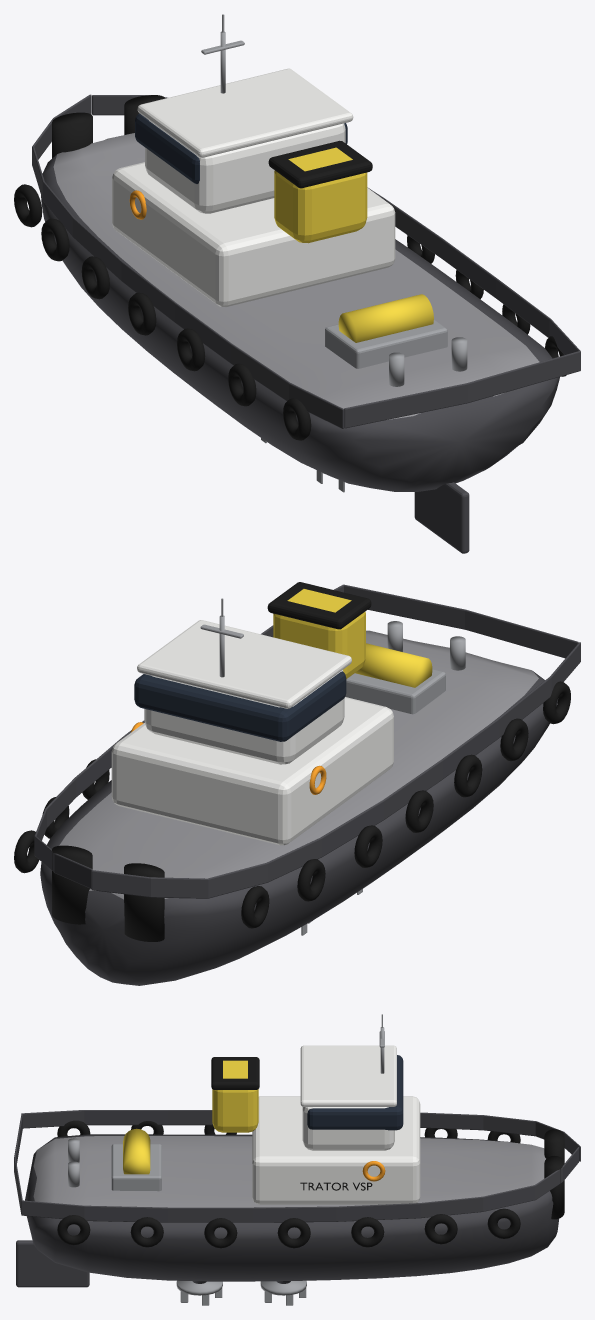
File: rebocador_trator_voith.glb
3 renders of one model, top to bottom at view 1: azimuth 30°, elevation 25°; view 2: azimuth 150°, elevation 25°; view 3: azimuth 270°, elevation 25°, orthographic. The views are drawn at different scales.
Parts seen in each view (by area): view 1: rebocador_trator_voith; view 2: rebocador_trator_voith; view 3: rebocador_trator_voith.
Part boxes in pixels (x1,y1,x2,y2): rebocador_trator_voith: (14, 14, 580, 553); rebocador_trator_voith: (14, 582, 580, 985); rebocador_trator_voith: (14, 1014, 580, 1305).
Bounding box in the file's own units: 12.02 × 14.9 × 27.01.
